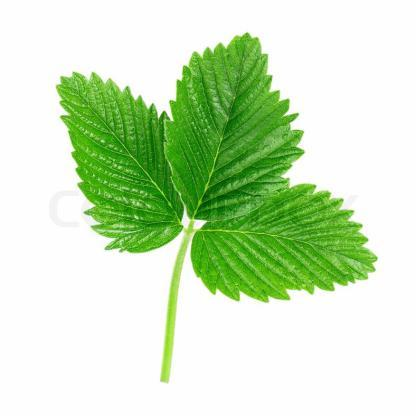Strawberry leaf: (160, 23, 308, 226), (57, 65, 198, 252), (193, 184, 382, 306)
